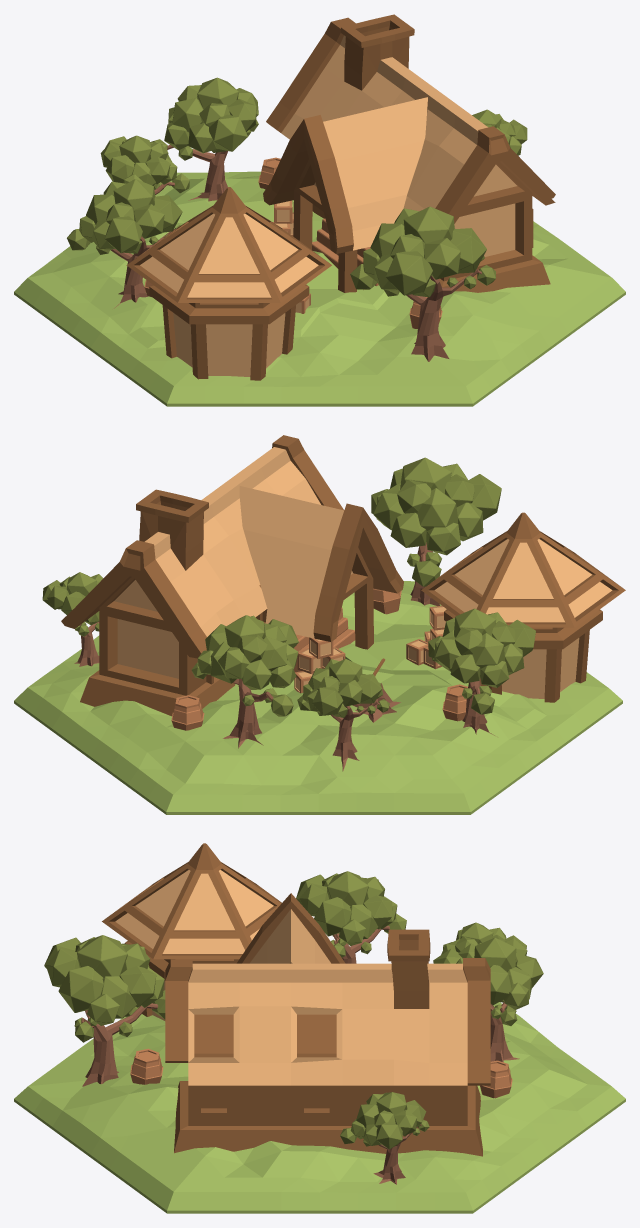
File: workers_hut.glb
3 views of the same model, one above another, from view 1: azimuth 30°, elevation 25°; view 2: azimuth 150°, elevation 25°; view 3: azimuth 270°, elevation 25° (orthographic).
Visible parts, largest first — view 1: workershut; view 2: workershut; view 3: workershut.
Boxes of the visible parts, box(x1,y1,x2,y2) form: workershut: box(14, 14, 625, 406); workershut: box(14, 435, 625, 814); workershut: box(14, 843, 625, 1213).
Size of the model in its own units: 1.78 by 0.7529 by 2.
